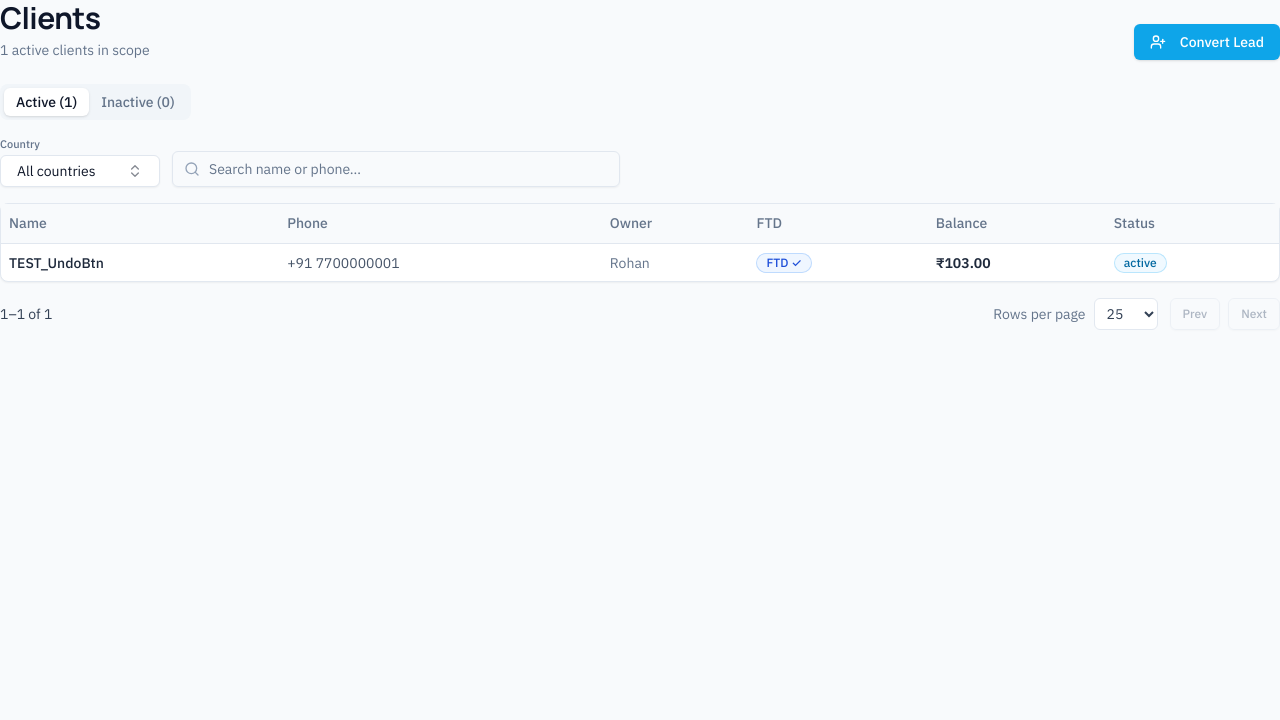
Test: Clients undo conversion › confirms and posts unconvert then closes sheet
Click the row with test id "client-row-c-undo-1".
click(640, 262)  # box x1=1 y1=244 x2=1279 y2=281
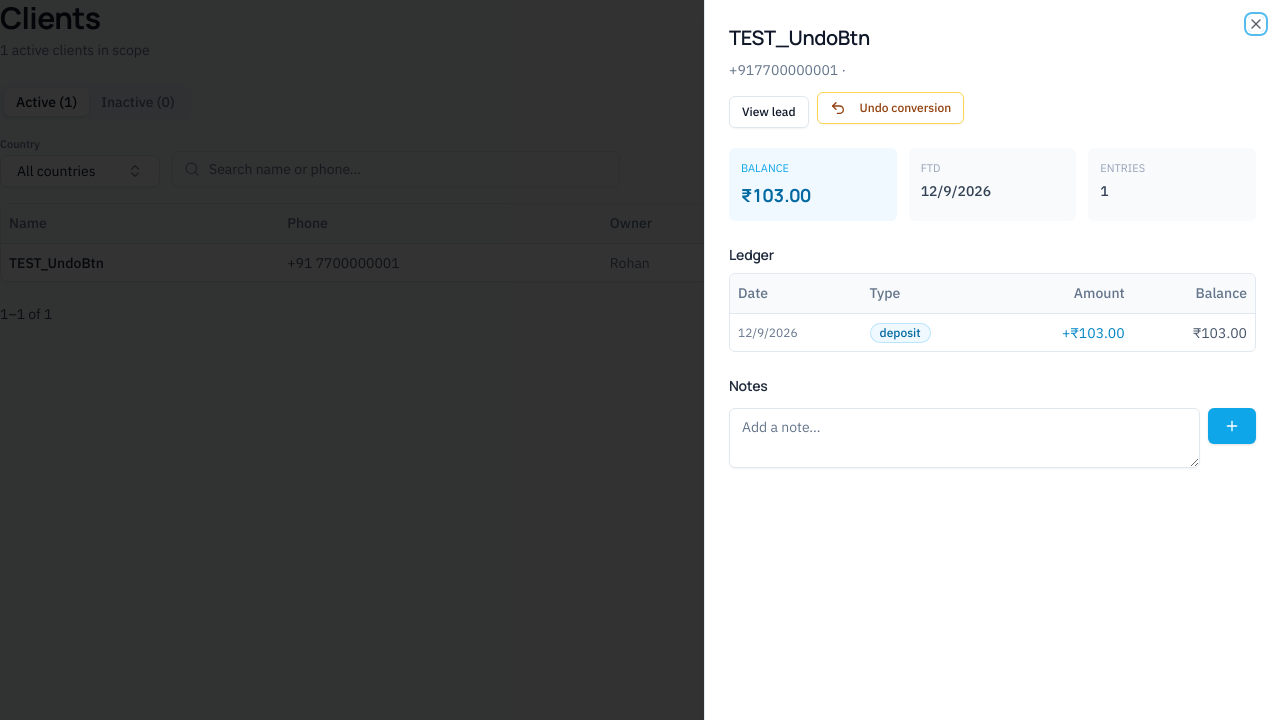
expect the button with test id "client-unconvert-btn" is shown: met
Click the button with test id "client-unconvert-btn".
click(890, 108)  # box x1=816 y1=92 x2=964 y2=124
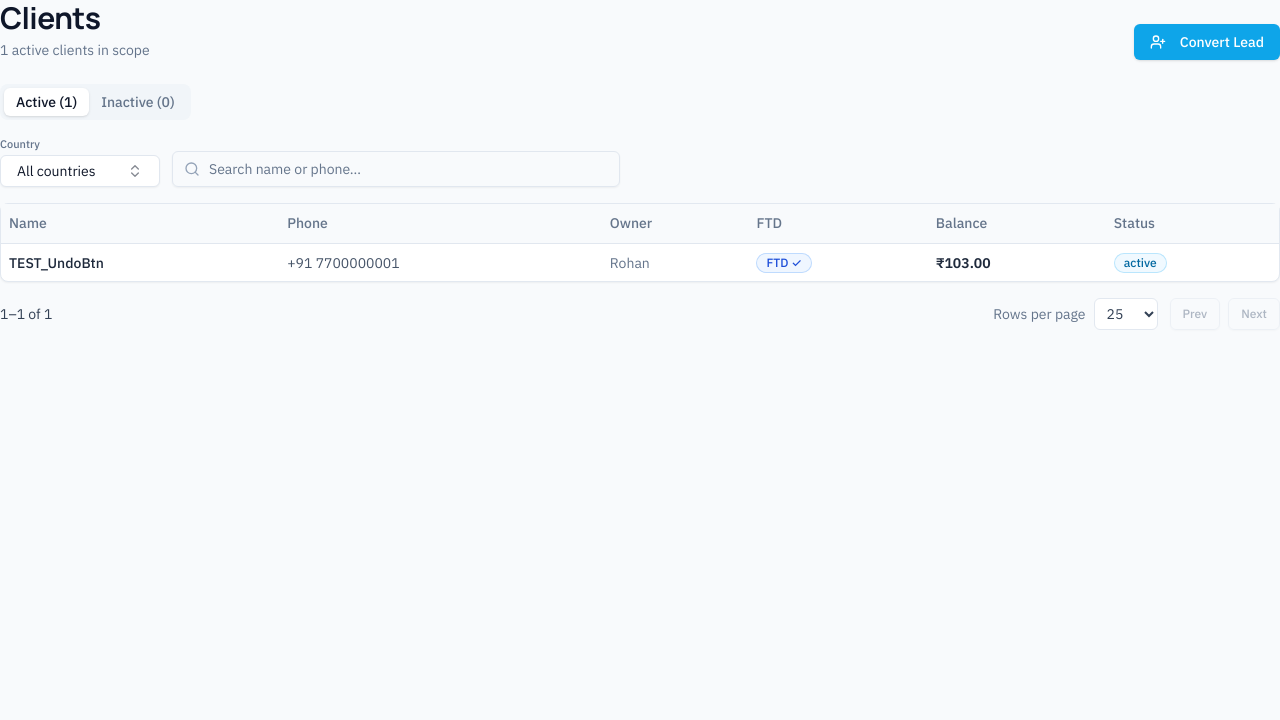
expect the dialog with test id "client-detail" is gone: met
